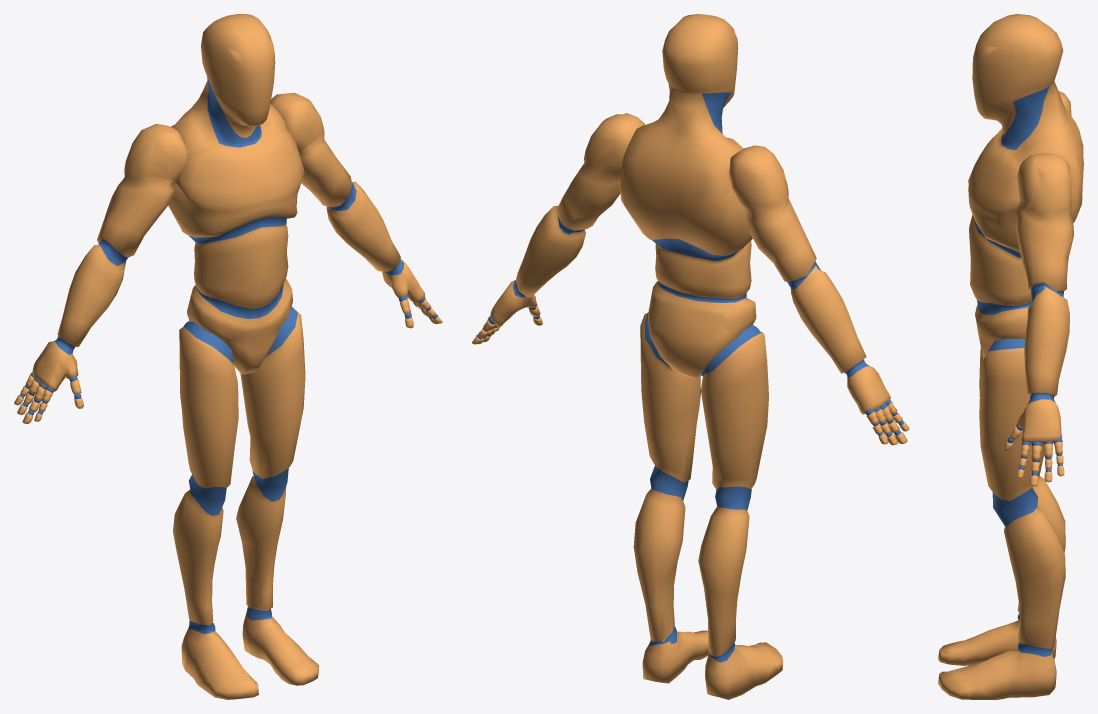
File: human-a-pose.glb
The picture shows the model from 3 angles, left to right: view 1: azimuth 30°, elevation 25°; view 2: azimuth 150°, elevation 25°; view 3: azimuth 270°, elevation 25°; orthographic projection. The views are drawn at different scales.
Parts seen in each view (by area): view 1: Mannequin; view 2: Mannequin; view 3: Mannequin.
Boxes of the visible parts, left/top/right/bottom form: Mannequin: left=14, top=14, right=442, bottom=699; Mannequin: left=471, top=14, right=909, bottom=699; Mannequin: left=938, top=14, right=1083, bottom=699.
Size of the model in its own units: 1.24 by 1.83 by 0.3696.
1 material, 1 textured.
